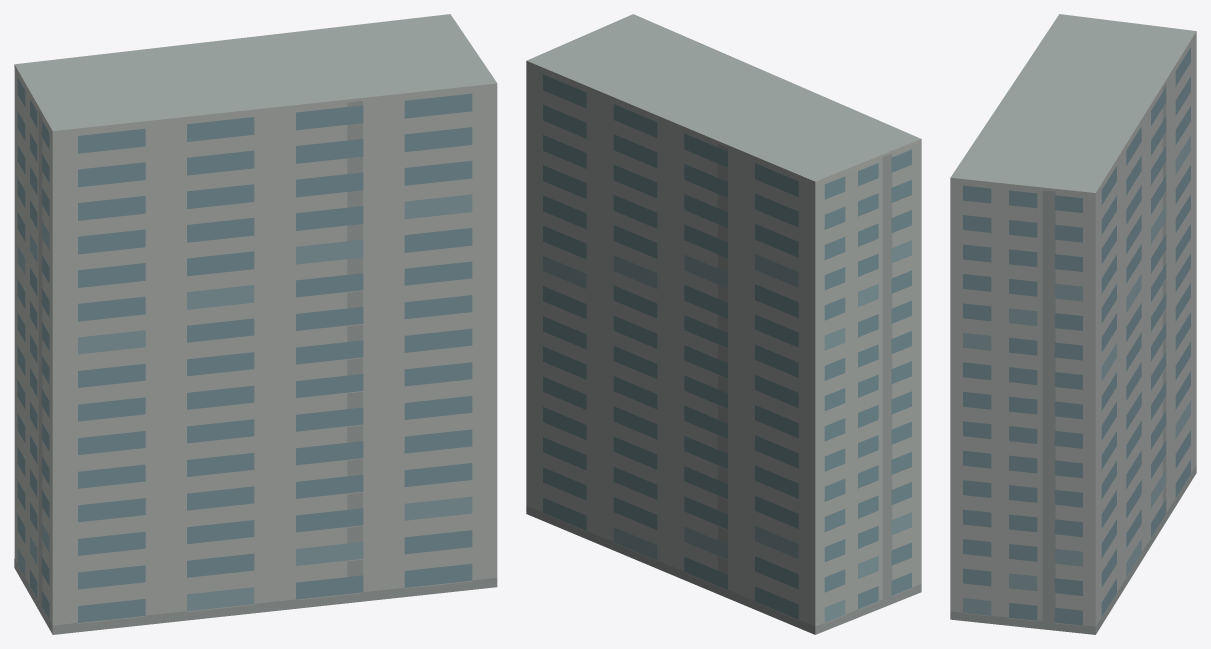
File: residential-6d50fdb7-ad9e-4f6e-9a27-df1cdec9ab2a.glb
The picture shows the model from 3 angles, left to right: view 1: azimuth 30°, elevation 25°; view 2: azimuth 150°, elevation 25°; view 3: azimuth 270°, elevation 25°; orthographic projection. The views are drawn at different scales.
Visible parts, largest first — view 1: residential-6d50fdb7-ad9e-4f6e-9a27-df1cdec9ab2a.tmp; view 2: residential-6d50fdb7-ad9e-4f6e-9a27-df1cdec9ab2a.tmp; view 3: residential-6d50fdb7-ad9e-4f6e-9a27-df1cdec9ab2a.tmp.
Part boxes in pixels (left/top/right/bottom): residential-6d50fdb7-ad9e-4f6e-9a27-df1cdec9ab2a.tmp: left=14, top=14, right=497, bottom=634; residential-6d50fdb7-ad9e-4f6e-9a27-df1cdec9ab2a.tmp: left=526, top=14, right=921, bottom=634; residential-6d50fdb7-ad9e-4f6e-9a27-df1cdec9ab2a.tmp: left=950, top=14, right=1196, bottom=634.
Size of the model in its own units: 35.64 by 41 by 20.72.
